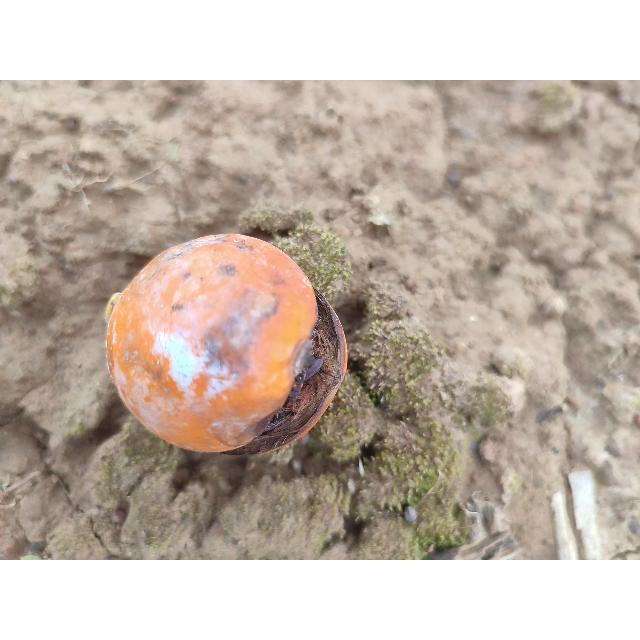damaged: (106, 234, 347, 455)
